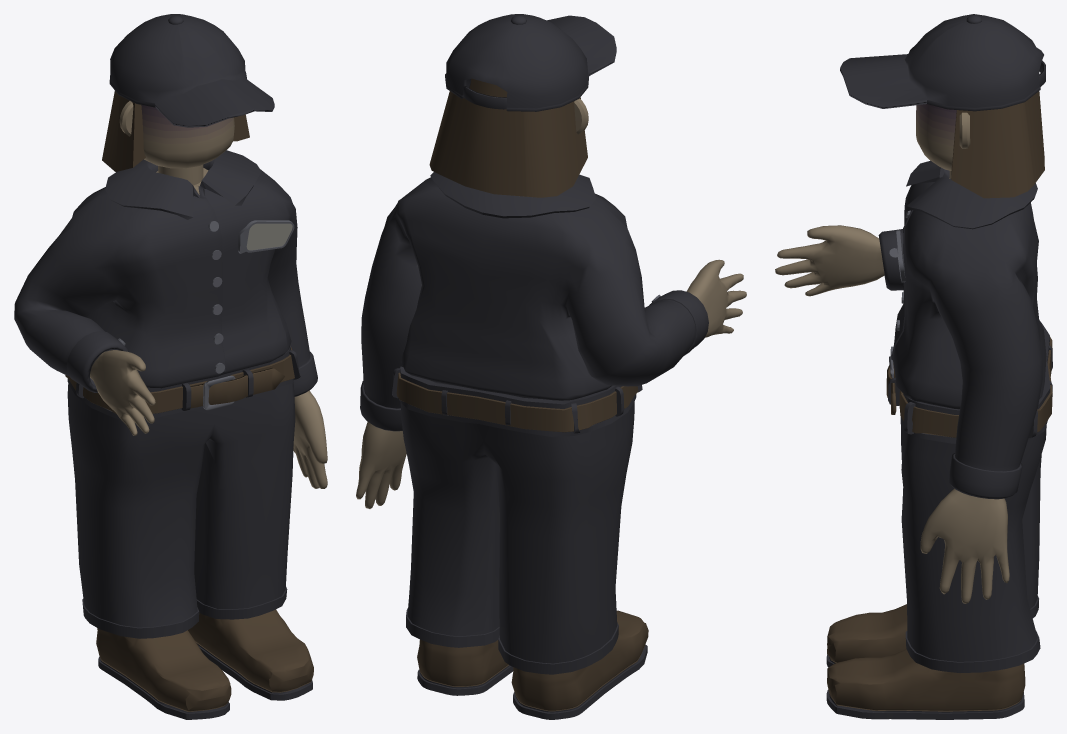
The model's file is TempGuard_Stand.fbx.
3 renders of one model, left to right at view 1: azimuth 30°, elevation 25°; view 2: azimuth 150°, elevation 25°; view 3: azimuth 270°, elevation 25°, orthographic. The views are drawn at different scales.
Visible parts, largest first — view 1: hold_flashlight; view 2: hold_flashlight; view 3: hold_flashlight.
Part boxes in pixels (x1,y1,x2,y2): hold_flashlight: (14,14,327,719); hold_flashlight: (356,14,746,719); hold_flashlight: (775,14,1052,719).
Size of the model in its own units: 73.02 by 155 by 58.84.
